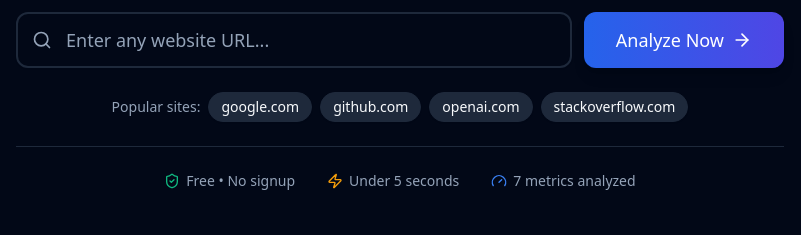
Test: AuditForm › shows validation error for invalid URL
The width and height of the screenshot is (801, 235).
Type "not-a-url" into the field with placeholder "Enter any website URL..." at [294, 40], box [16,12,572,68]
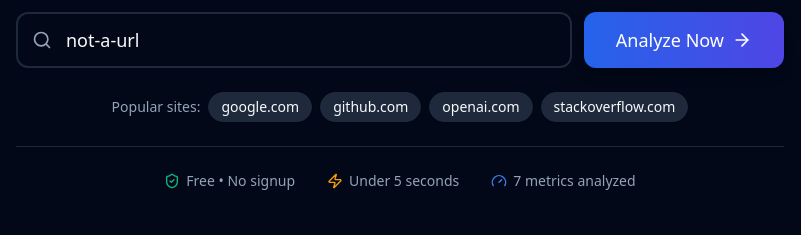
Click the button "Analyze Now" at [684, 40], box [584,12,784,68]
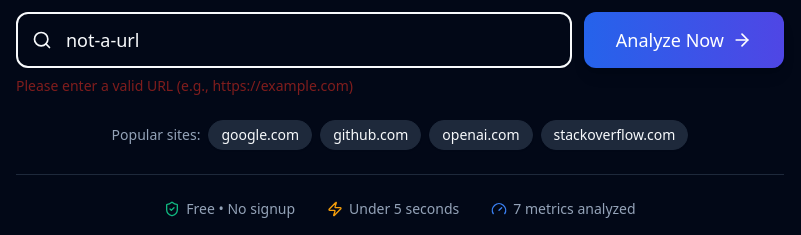
Expected: the text "Please enter a valid URL (e.g., https://example.com)" is shown, [16,76,353,95]
